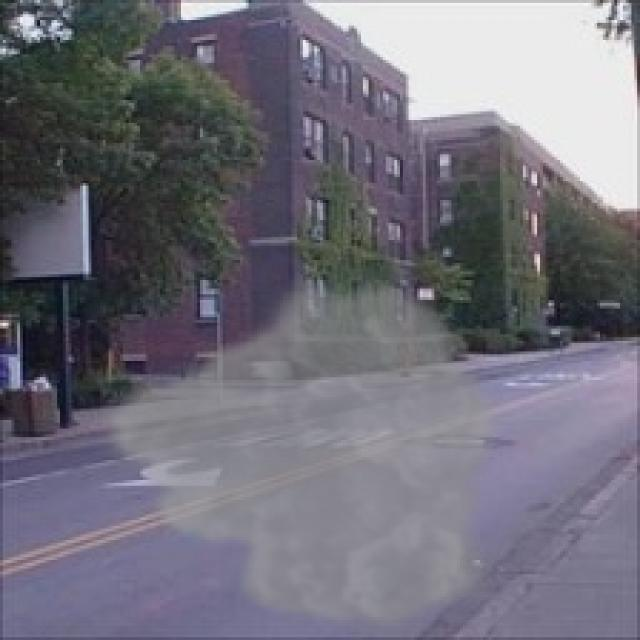smoke: (94, 269, 503, 634)
